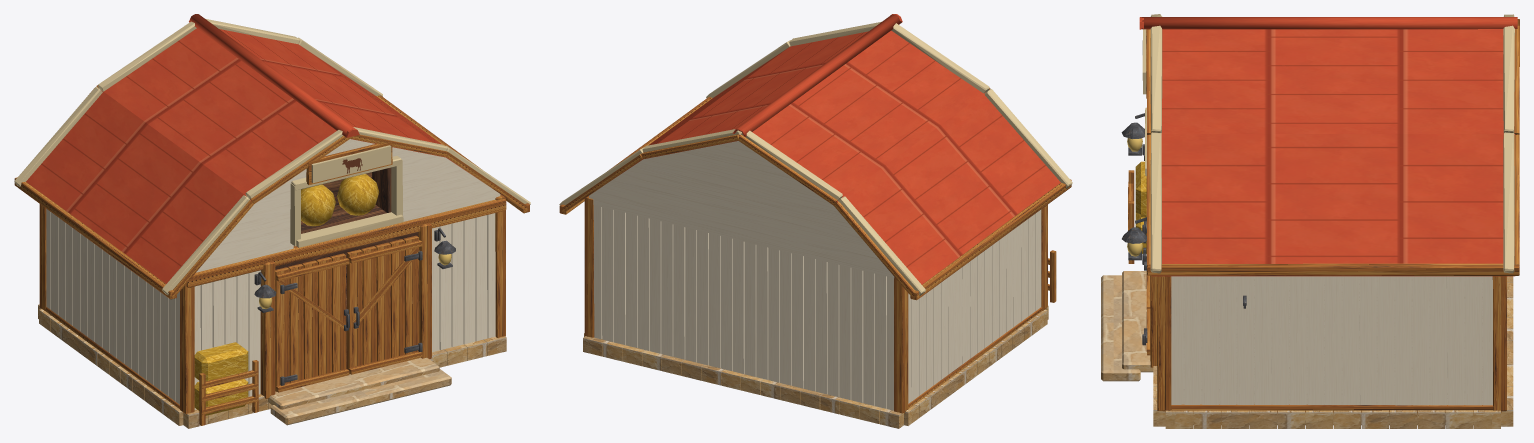
The model's file is BarnExterior_Cozy_LOD2.fbx.
3 views of the same model, side by side, from view 1: azimuth 30°, elevation 25°; view 2: azimuth 150°, elevation 25°; view 3: azimuth 270°, elevation 25° (orthographic). The views are drawn at different scales.
Parts seen in each view (by area): view 1: BarnExterior_Cozy_LOD2; view 2: BarnExterior_Cozy_LOD2; view 3: BarnExterior_Cozy_LOD2.
Part boxes in pixels (box(x1,y1,x2,y2)): BarnExterior_Cozy_LOD2: box(14, 14, 530, 428); BarnExterior_Cozy_LOD2: box(559, 14, 1072, 428); BarnExterior_Cozy_LOD2: box(1101, 14, 1519, 428).
Bounding box in the file's own units: 8.26 × 5.72 × 6.86.
